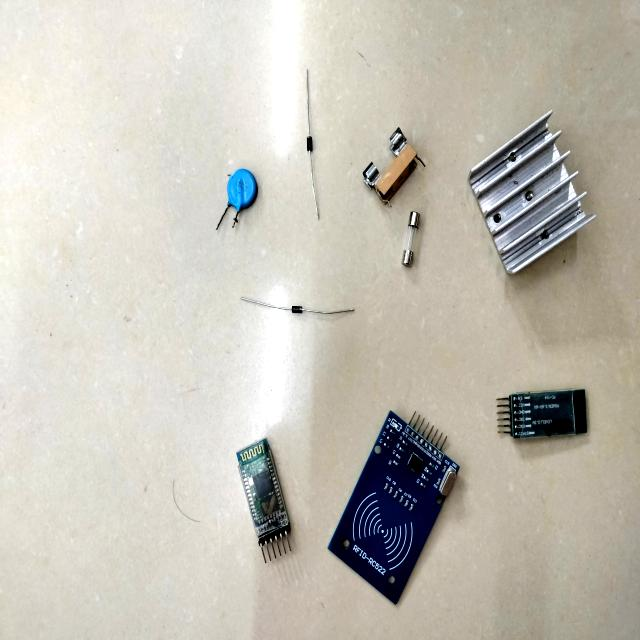capacitor: (227, 169, 258, 210)
